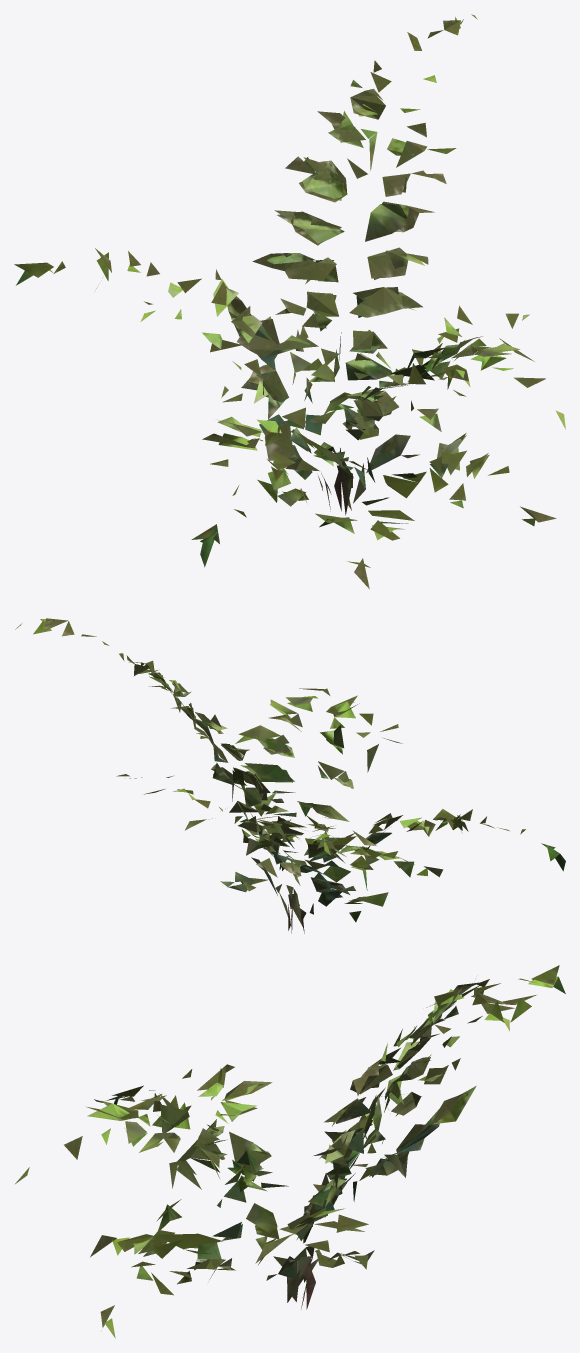
The model's file is fern.glb.
3 renders of one model, top to bottom at view 1: azimuth 30°, elevation 25°; view 2: azimuth 150°, elevation 25°; view 3: azimuth 270°, elevation 25°, orthographic. The views are drawn at different scales.
Parts seen in each view (by area): view 1: geometry_0; view 2: geometry_0; view 3: geometry_0.
Boxes of the visible parts, x1,y1,x2,y2 form: geometry_0: [14, 14, 565, 589]; geometry_0: [15, 618, 565, 933]; geometry_0: [15, 965, 565, 1338].
Size of the model in its own units: 1.93 by 1.53 by 1.84.
Materials: 1 (1 with a texture image).
